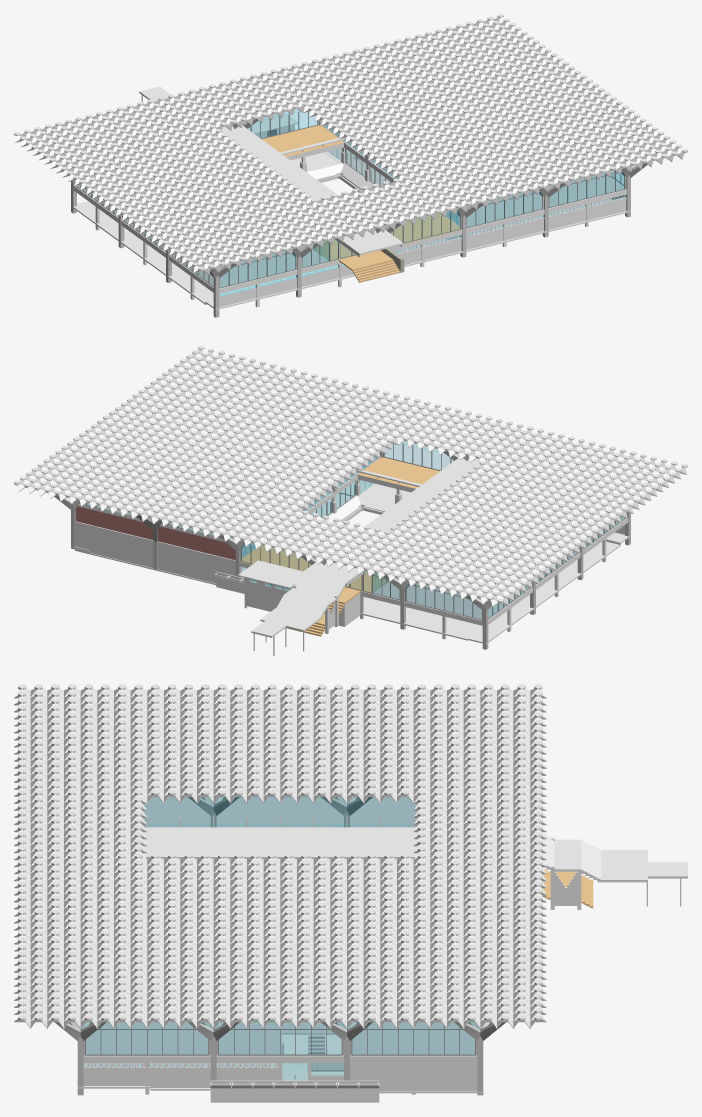
3 renders of one model, top to bottom at view 1: azimuth 30°, elevation 25°; view 2: azimuth 150°, elevation 25°; view 3: azimuth 270°, elevation 25°, orthographic. The views are drawn at different scales.
Parts seen in each view (by area): view 1: EN202RF, EN20201, EN202B1; view 2: EN202RF, EN20201, EN202B1; view 3: EN202RF, EN20201, EN202B1.
Part boxes in pixels (x1,y1,x2,y2): EN202RF: (14,14,687,274); EN20201: (71,95,647,294); EN202B1: (71,124,630,317); EN202RF: (14,346,687,637); EN20201: (54,441,630,655); EN202B1: (71,479,630,649); EN202RF: (14,684,687,1028); EN20201: (55,797,681,1063); EN202B1: (77,822,483,1102).
Size of the model in its own units: 60 by 8.6 by 50.6.
